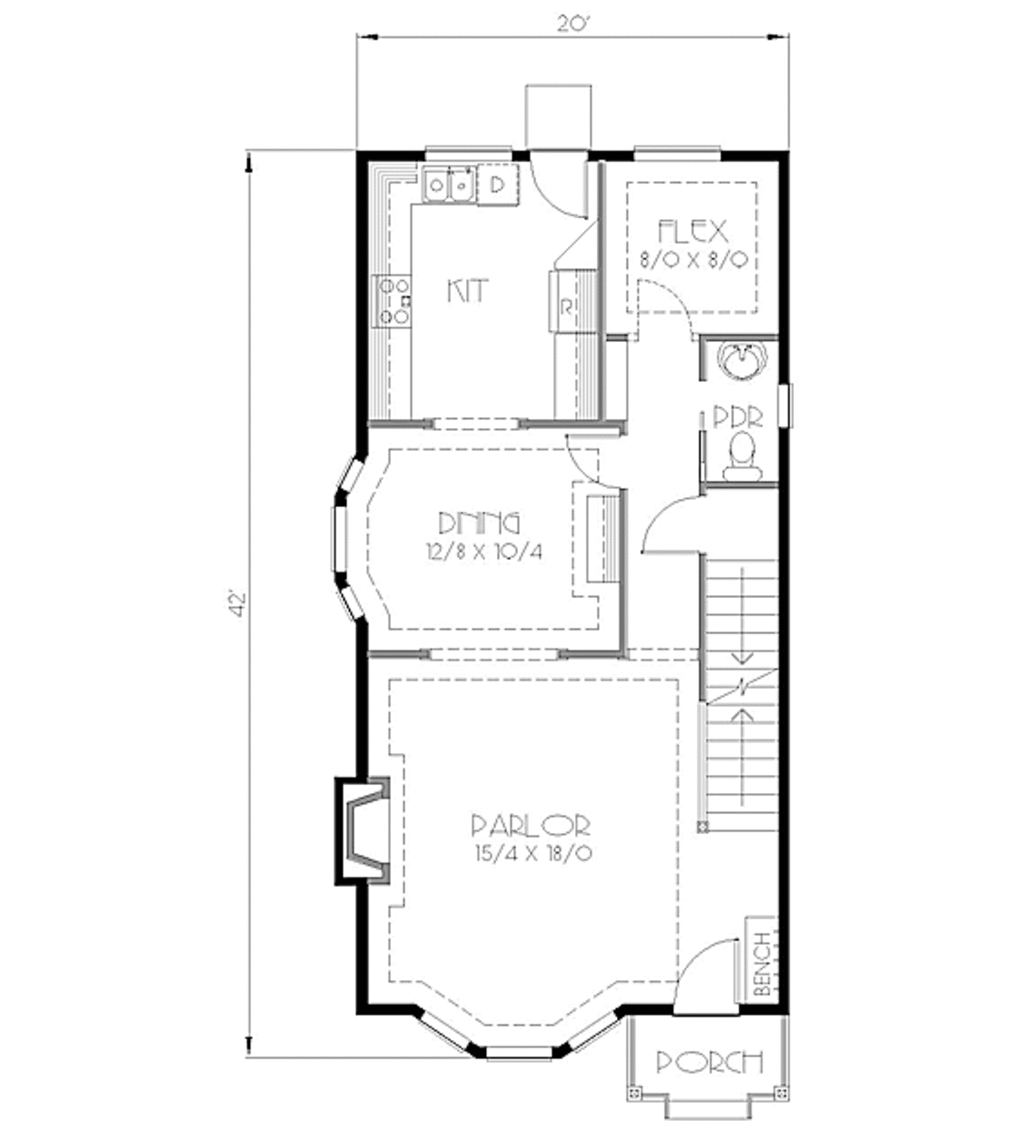door: (665, 937, 746, 1018), (638, 486, 717, 558), (519, 149, 596, 220), (631, 274, 698, 349), (560, 430, 638, 489)
large_sink: (719, 420, 774, 482)
small_sink: (714, 343, 772, 379)
stairs: (690, 549, 793, 839)
twin_sink: (407, 153, 495, 206)
window: (412, 994, 617, 1060), (331, 455, 376, 625), (629, 137, 721, 163), (772, 380, 796, 429)
